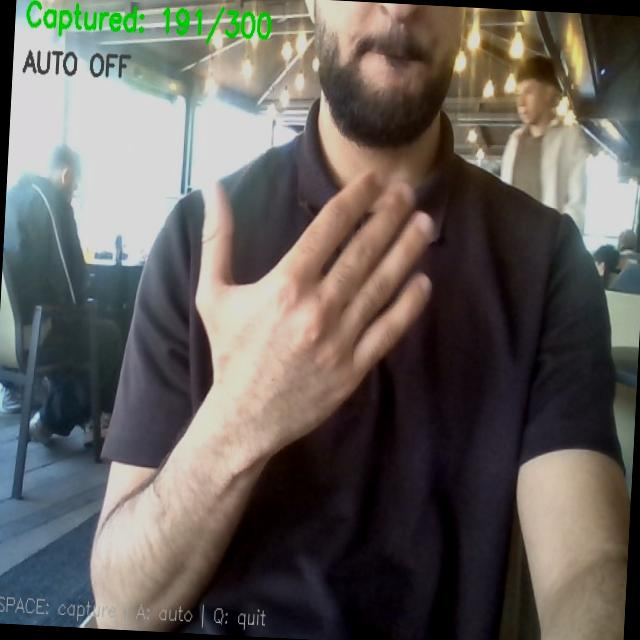Hand: (196, 173, 432, 455)
